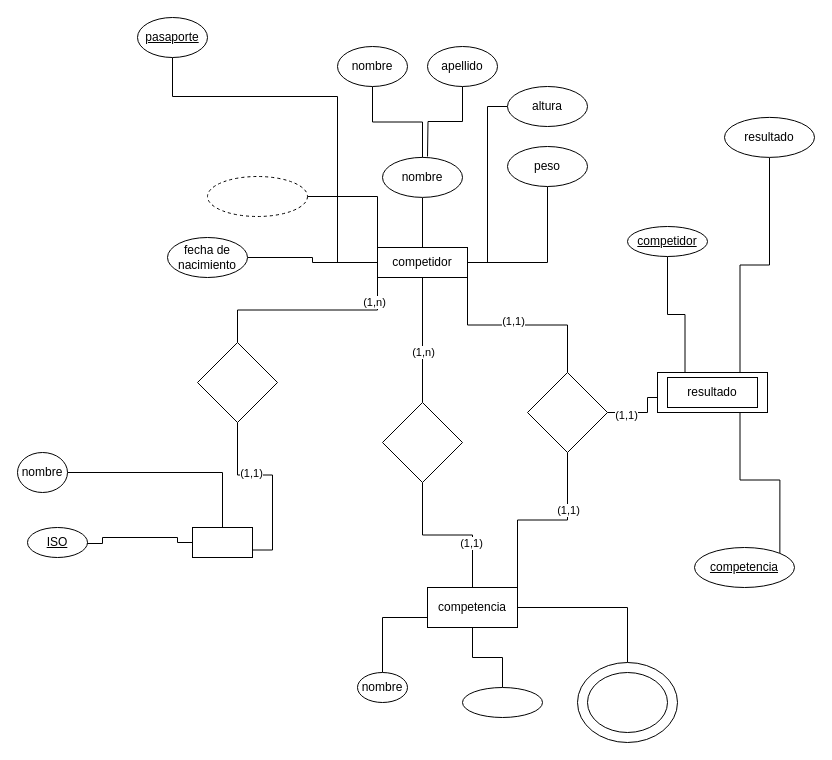
The diagram is 832 pixels wide and 760 high, and some of its shapes have lost their labels. The shapes that lost their labels are listed below. From the top down, each one's centre as x and y in pixels, then its label:
At (257,196): "edad".
At (237,382): "nacido en".
At (567,412): "obtuvo".
At (422,442): "compite en".
At (222,542): "pais".
At (502,702): "idCompetencia".
At (627,702): "competidores".
